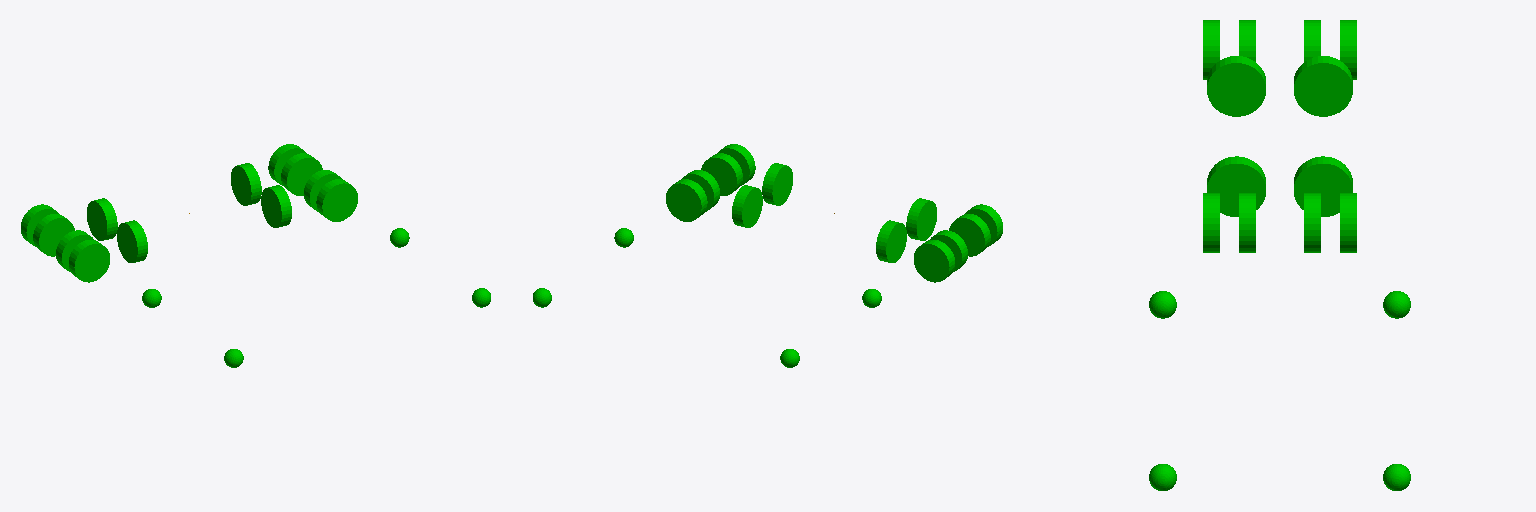
--- Render facts (derived) ---
Views: 3 orthographic renders of the robot side by side, from view 1: azimuth 30°, elevation 25°; view 2: azimuth 150°, elevation 25°; view 3: azimuth 270°, elevation 25°.
Model aliengo with 31 links and 30 joints (12 revolute, 18 fixed), rooted at base, posed joints at zero except 4 at the middle of their limits (FR_calf_joint = -1.71, FL_calf_joint = -1.71, RR_calf_joint = -1.71, RL_calf_joint = -1.71).
Visible links, largest first — view 1: FR_thigh_rotor, RR_thigh_rotor, FL_calf_rotor, RL_calf_rotor, FR_hip_rotor, RR_hip_rotor, FL_hip_rotor, RL_hip_rotor, RR_calf_rotor, FL_thigh_rotor, FR_calf_rotor, RL_thigh_rotor; view 2: FL_thigh_rotor, RL_thigh_rotor, FR_calf_rotor, RR_calf_rotor, FL_hip_rotor, RL_hip_rotor, FR_hip_rotor, RR_hip_rotor, RL_calf_rotor, FR_thigh_rotor, FL_calf_rotor, RR_thigh_rotor; view 3: RR_hip_rotor, RL_hip_rotor, FR_hip_rotor, FL_hip_rotor, FR_thigh_rotor, FR_calf_rotor, FL_thigh_rotor, FL_calf_rotor, RR_thigh_rotor, RL_thigh_rotor, RR_calf_rotor, RL_calf_rotor (+4 smaller).
Boxes of the visible links, box(x1,y1,x2,y2) form: FR_thigh_rotor: box(316, 179, 357, 221); RR_thigh_rotor: box(69, 240, 109, 282); FL_calf_rotor: box(281, 153, 322, 195); RL_calf_rotor: box(33, 214, 74, 256); FR_hip_rotor: box(261, 185, 291, 227); RR_hip_rotor: box(117, 220, 147, 262); FL_hip_rotor: box(231, 163, 261, 205); RL_hip_rotor: box(87, 198, 117, 240); RR_calf_rotor: box(56, 230, 93, 271); FL_thigh_rotor: box(268, 144, 306, 185); FR_calf_rotor: box(304, 170, 342, 211); RL_thigh_rotor: box(21, 204, 58, 246); FL_thigh_rotor: box(666, 179, 707, 221); RL_thigh_rotor: box(914, 240, 954, 282); FR_calf_rotor: box(701, 153, 742, 195); RR_calf_rotor: box(949, 214, 990, 256); FL_hip_rotor: box(732, 185, 762, 227); RL_hip_rotor: box(876, 220, 906, 262); FR_hip_rotor: box(762, 163, 792, 205); RR_hip_rotor: box(906, 198, 936, 240); RL_calf_rotor: box(930, 230, 967, 271); FR_thigh_rotor: box(717, 144, 755, 185); FL_calf_rotor: box(681, 170, 719, 211); RR_thigh_rotor: box(965, 204, 1002, 246); RR_hip_rotor: box(1207, 56, 1265, 116); RL_hip_rotor: box(1294, 56, 1352, 116); FR_hip_rotor: box(1207, 156, 1265, 216); FL_hip_rotor: box(1294, 156, 1352, 216); FR_thigh_rotor: box(1203, 193, 1219, 252); FR_calf_rotor: box(1239, 193, 1255, 252); FL_thigh_rotor: box(1340, 193, 1356, 252); FL_calf_rotor: box(1304, 193, 1320, 252); RR_thigh_rotor: box(1203, 20, 1219, 79); RL_thigh_rotor: box(1340, 20, 1356, 79); RR_calf_rotor: box(1239, 20, 1255, 61); RL_calf_rotor: box(1304, 20, 1320, 61).
Size in the robot's own frame: 0.7804 by 0.3086 by 0.2667 metres.
0 mesh visuals loaded from 5 distinct referenced files (none loaded); not drawn: 13 (reference not matched to a file when rendering).

The robot description file, URDF, robot "aliengo":
<?xml version="1.0" ?>
<!-- =================================================================================== -->
<!-- |    This document was autogenerated by xacro from robot.xacro                    | -->
<!-- |    EDITING THIS FILE BY HAND IS NOT RECOMMENDED                                 | -->
<!-- =================================================================================== -->
<robot name="aliengo">
  <material name="black">
    <color rgba="0.0 0.0 0.0 1.0"/>
  </material>
  <material name="blue">
    <color rgba="0.0 0.0 0.8 1.0"/>
  </material>
  <material name="green">
    <color rgba="0.0 0.8 0.0 1.0"/>
  </material>
  <material name="grey">
    <color rgba="0.2 0.2 0.2 1.0"/>
  </material>
  <material name="silver">
    <color rgba="0.9137254901960784 0.9137254901960784 0.8470588235294118 1.0"/>
  </material>
  <material name="orange">
    <color rgba="1.0 0.4235294117647059 0.0392156862745098 1.0"/>
  </material>
  <material name="brown">
    <color rgba="0.8705882352941177 0.8117647058823529 0.7647058823529411 1.0"/>
  </material>
  <material name="red">
    <color rgba="0.8 0.0 0.0 1.0"/>
  </material>
  <material name="white">
    <color rgba="1.0 1.0 1.0 1.0"/>
  </material>
  <!-- ros_control plugin -->
  <gazebo>
    <plugin filename="libgazebo_ros_control.so" name="gazebo_ros_control">
      <robotNamespace>/aliengo_gazebo</robotNamespace>
      <robotSimType>gazebo_ros_control/DefaultRobotHWSim</robotSimType>
    </plugin>
  </gazebo>
  <!-- Show the trajectory of trunk center. -->
  <gazebo>
    <plugin filename="libLinkPlot3DPlugin.so" name="3dplot">
      <frequency>10</frequency>
      <plot>
        <link>base</link>
        <pose>0 0 0 0 0 0</pose>
        <material>Gazebo/Yellow</material>
      </plot>
    </plugin>
  </gazebo>
  <!-- Show the trajectory of foot. You can add another trajectory about another foot. -->
  <!-- <gazebo>
        <plugin name="3dplot" filename="libLinkPlot3DPlugin.so">
            <frequency>100</frequency>
            <plot>
                <link>FL_foot</link>
                <pose>0 0 0 0 0 0</pose>
                <material>Gazebo/Green</material>
            </plot>
        </plugin>
    </gazebo> -->
  <gazebo>
    <plugin filename="libgazebo_ros_force.so" name="gazebo_ros_force">
      <bodyName>trunk</bodyName>
      <topicName>/apply_force/trunk</topicName>
    </plugin>
  </gazebo>
  <gazebo reference="imu_link">
    <gravity>true</gravity>
    <sensor name="imu_sensor" type="imu">
      <always_on>true</always_on>
      <update_rate>1000</update_rate>
      <visualize>true</visualize>
      <topic>__default_topic__</topic>
      <plugin filename="libgazebo_ros_imu_sensor.so" name="imu_plugin">
        <topicName>trunk_imu</topicName>
        <bodyName>imu_link</bodyName>
        <updateRateHZ>1000.0</updateRateHZ>
        <gaussianNoise>0.0</gaussianNoise>
        <xyzOffset>0 0 0</xyzOffset>
        <rpyOffset>0 0 0</rpyOffset>
        <frameName>imu_link</frameName>
      </plugin>
      <pose>0 0 0 0 0 0</pose>
    </sensor>
  </gazebo>
  <!-- Foot contacts. -->
  <gazebo reference="FR_calf">
    <sensor name="FR_foot_contact" type="contact">
      <update_rate>100</update_rate>
      <plugin filename="libunitreeFootContactPlugin.so" name="contactPlugin"/>
      <contact>
        <collision>FR_calf_fixed_joint_lump__FR_foot_collision_1</collision>
      </contact>
    </sensor>
  </gazebo>
  <gazebo reference="FL_calf">
    <sensor name="FL_foot_contact" type="contact">
      <update_rate>100</update_rate>
      <plugin filename="libunitreeFootContactPlugin.so" name="contactPlugin"/>
      <contact>
        <collision>FL_calf_fixed_joint_lump__FL_foot_collision_1</collision>
      </contact>
    </sensor>
  </gazebo>
  <gazebo reference="RR_calf">
    <sensor name="RR_foot_contact" type="contact">
      <update_rate>100</update_rate>
      <plugin filename="libunitreeFootContactPlugin.so" name="contactPlugin"/>
      <contact>
        <collision>RR_calf_fixed_joint_lump__RR_foot_collision_1</collision>
      </contact>
    </sensor>
  </gazebo>
  <gazebo reference="RL_calf">
    <sensor name="RL_foot_contact" type="contact">
      <update_rate>100</update_rate>
      <plugin filename="libunitreeFootContactPlugin.so" name="contactPlugin"/>
      <contact>
        <collision>RL_calf_fixed_joint_lump__RL_foot_collision_1</collision>
      </contact>
    </sensor>
  </gazebo>
  <!-- Visualization of Foot contacts. -->
  <gazebo reference="FR_foot">
    <visual>
      <plugin filename="libunitreeDrawForcePlugin.so" name="drawForcePlugin">
        <topicName>FR_foot_contact</topicName>
      </plugin>
    </visual>
  </gazebo>
  <gazebo reference="FL_foot">
    <visual>
      <plugin filename="libunitreeDrawForcePlugin.so" name="drawForcePlugin">
        <topicName>FL_foot_contact</topicName>
      </plugin>
    </visual>
  </gazebo>
  <gazebo reference="RR_foot">
    <visual>
      <plugin filename="libunitreeDrawForcePlugin.so" name="drawForcePlugin">
        <topicName>RR_foot_contact</topicName>
      </plugin>
    </visual>
  </gazebo>
  <gazebo reference="RL_foot">
    <visual>
      <plugin filename="libunitreeDrawForcePlugin.so" name="drawForcePlugin">
        <topicName>RL_foot_contact</topicName>
      </plugin>
    </visual>
  </gazebo>
  <gazebo reference="base">
    <material>Gazebo/Green</material>
    <turnGravityOff>false</turnGravityOff>
  </gazebo>
  <gazebo reference="trunk">
    <mu1>0.2</mu1>
    <mu2>0.2</mu2>
    <kp value="1000000.0"/>
    <kd value="1.0"/>
  </gazebo>
  <gazebo reference="stick_link">
    <mu1>0.2</mu1>
    <mu2>0.2</mu2>
    <material>Gazebo/White</material>
  </gazebo>
  <gazebo reference="imu_link">
    <mu1>0.2</mu1>
    <mu2>0.2</mu2>
    <material>Gazebo/Red</material>
  </gazebo>
  <!-- FL leg -->
  <gazebo reference="FL_hip">
    <mu1>0.2</mu1>
    <mu2>0.2</mu2>
    <material>Gazebo/DarkGrey</material>
  </gazebo>
  <gazebo reference="FL_thigh">
    <mu1>0.2</mu1>
    <mu2>0.2</mu2>
    <self_collide>1</self_collide>
    <material>Gazebo/DarkGrey</material>
    <kp value="1000000.0"/>
    <kd value="1.0"/>
  </gazebo>
  <gazebo reference="FL_calf">
    <mu1>0.2</mu1>
    <mu2>0.2</mu2>
    <self_collide>1</self_collide>
  </gazebo>
  <gazebo reference="FL_foot">
    <mu1>0.6</mu1>
    <mu2>0.6</mu2>
    <self_collide>1</self_collide>
    <material>Gazebo/DarkGrey</material>
    <kp value="1000000.0"/>
    <kd value="1.0"/>
  </gazebo>
  <!-- FR leg -->
  <gazebo reference="FR_hip">
    <mu1>0.2</mu1>
    <mu2>0.2</mu2>
    <material>Gazebo/DarkGrey</material>
  </gazebo>
  <gazebo reference="FR_thigh">
    <mu1>0.2</mu1>
    <mu2>0.2</mu2>
    <self_collide>1</self_collide>
    <material>Gazebo/DarkGrey</material>
    <kp value="1000000.0"/>
    <kd value="1.0"/>
  </gazebo>
  <gazebo reference="FR_calf">
    <mu1>0.2</mu1>
    <mu2>0.2</mu2>
    <self_collide>1</self_collide>
  </gazebo>
  <gazebo reference="FR_foot">
    <mu1>0.6</mu1>
    <mu2>0.6</mu2>
    <self_collide>1</self_collide>
    <material>Gazebo/DarkGrey</material>
    <kp value="1000000.0"/>
    <kd value="1.0"/>
  </gazebo>
  <!-- RL leg -->
  <gazebo reference="RL_hip">
    <mu1>0.2</mu1>
    <mu2>0.2</mu2>
    <material>Gazebo/DarkGrey</material>
  </gazebo>
  <gazebo reference="RL_thigh">
    <mu1>0.2</mu1>
    <mu2>0.2</mu2>
    <self_collide>1</self_collide>
    <material>Gazebo/DarkGrey</material>
    <kp value="1000000.0"/>
    <kd value="1.0"/>
  </gazebo>
  <gazebo reference="RL_calf">
    <mu1>0.2</mu1>
    <mu2>0.2</mu2>
    <self_collide>1</self_collide>
  </gazebo>
  <gazebo reference="RL_foot">
    <mu1>0.6</mu1>
    <mu2>0.6</mu2>
    <self_collide>1</self_collide>
    <material>Gazebo/DarkGrey</material>
    <kp value="1000000.0"/>
    <kd value="1.0"/>
  </gazebo>
  <!-- RR leg -->
  <gazebo reference="RR_hip">
    <mu1>0.2</mu1>
    <mu2>0.2</mu2>
    <material>Gazebo/DarkGrey</material>
  </gazebo>
  <gazebo reference="RR_thigh">
    <mu1>0.2</mu1>
    <mu2>0.2</mu2>
    <self_collide>1</self_collide>
    <material>Gazebo/DarkGrey</material>
    <kp value="1000000.0"/>
    <kd value="1.0"/>
  </gazebo>
  <gazebo reference="RR_calf">
    <mu1>0.2</mu1>
    <mu2>0.2</mu2>
    <self_collide>1</self_collide>
  </gazebo>
  <gazebo reference="RR_foot">
    <mu1>0.6</mu1>
    <mu2>0.6</mu2>
    <self_collide>1</self_collide>
    <material>Gazebo/DarkGrey</material>
    <kp value="1000000.0"/>
    <kd value="1.0"/>
  </gazebo>
  <!-- Rotor related joint and link is only for demonstrate location. -->
  <!-- Actually, the rotor will rotate and the joint is not fixed. Reduction ratio should be considered. -->
  <!-- Debug mode will hung up the robot, use "true" or "false" to switch it. -->
  <!-- <xacro:if value="$(arg DEBUG)">
        <link name="world"/>
        <joint name="base_static_joint" type="fixed">
            <origin rpy="0 0 0" xyz="0 0 0"/>
            <parent link="world"/>
            <child link="base"/>
        </joint>
    </xacro:if>  -->
  <link name="base">
    <visual>
      <origin rpy="0 0 0" xyz="0 0 0"/>
      <geometry>
        <box size="0.001 0.001 0.001"/>
      </geometry>
    </visual>
  </link>
  <joint name="floating_base" type="fixed">
    <origin rpy="0 0 0" xyz="0 0 0"/>
    <parent link="base"/>
    <child link="trunk"/>
  </joint>
  <link name="trunk">
    <visual>
      <origin rpy="0 0 0" xyz="0 0 0"/>
      <geometry>
        <mesh filename="package://meshes/trunk.dae" scale="1 1 1"/>
      </geometry>
      <material name="orange"/>
    </visual>
    <collision>
      <origin rpy="0 0 0" xyz="0 0 0"/>
      <geometry>
        <box size="0.647 0.15 0.112"/>
      </geometry>
    </collision>
    <!-- <collision>
            <origin rpy="0 0 0" xyz="0 0 0"/>
            <geometry>
                <mesh filename="package://meshes/trunk.dae" scale="1 1 1"/>
            </geometry>
        </collision> -->
    <inertial>
      <origin rpy="0 0 0" xyz="0.008811 0.003839 0.000273"/>
      <mass value="11.644"/>
      <inertia ixx="0.051944892" ixy="0.001703617" ixz="0.000235941" iyy="0.24693924" iyz="0.000119783" izz="0.270948307"/>
    </inertial>
  </link>
  <joint name="imu_joint" type="fixed">
    <parent link="trunk"/>
    <child link="imu_link"/>
    <origin rpy="0 0 0" xyz="0 0 0"/>
  </joint>
  <link name="imu_link">
    <inertial>
      <mass value="0.001"/>
      <origin rpy="0 0 0" xyz="0 0 0"/>
      <inertia ixx="0.0001" ixy="0" ixz="0" iyy="0.000001" iyz="0" izz="0.0001"/>
    </inertial>
    <visual>
      <origin rpy="0 0 0" xyz="0 0 0"/>
      <geometry>
        <box size="0.001 0.001 0.001"/>
      </geometry>
      <material name="red"/>
    </visual>
    <collision>
      <origin rpy="0 0 0" xyz="0 0 0"/>
      <geometry>
        <box size=".001 .001 .001"/>
      </geometry>
    </collision>
  </link>
  <joint name="FR_hip_joint" type="revolute">
    <origin rpy="0 0 0" xyz="0.2407 -0.051 0"/>
    <parent link="trunk"/>
    <child link="FR_hip"/>
    <axis xyz="1 0 0"/>
    <dynamics damping="0" friction="0"/>
    <limit effort="35.278" lower="-1.2217304763960306" upper="1.2217304763960306" velocity="20"/>
  </joint>
  <joint name="FR_hip_rotor_joint" type="fixed">
    <origin rpy="0 0 0" xyz="0.139985 -0.051 0"/>
    <parent link="trunk"/>
    <child link="FR_hip_rotor"/>
  </joint>
  <link name="FR_hip">
    <visual>
      <origin rpy="3.141592653589793 0 0" xyz="0 0 0"/>
      <geometry>
        <mesh filename="package://meshes/hip.dae" scale="1 1 1"/>
      </geometry>
      <material name="orange"/>
    </visual>
    <collision>
      <origin rpy="1.5707963267948966 0 0" xyz="0 -0.083 0"/>
      <geometry>
        <cylinder length="0.0418" radius="0.046"/>
      </geometry>
    </collision>
    <inertial>
      <origin rpy="0 0 0" xyz="-0.022191 -0.015144 -1.5e-05"/>
      <mass value="1.993"/>
      <inertia ixx="0.002446735" ixy="0.00059805" ixz="1.945e-06" iyy="0.003925876" iyz="-1.284e-06" izz="0.004148145"/>
    </inertial>
  </link>
  <link name="FR_hip_rotor">
    <visual>
      <origin rpy="0 1.5707963267948966 0" xyz="0 0 0"/>
      <geometry>
        <cylinder length="0.02" radius="0.035"/>
      </geometry>
      <material name="green"/>
    </visual>
    <collision>
      <origin rpy="0 1.5707963267948966 0" xyz="0 0 0"/>
      <geometry>
        <cylinder length="0.02" radius="0.035"/>
      </geometry>
    </collision>
    <inertial>
      <origin rpy="0 0 0" xyz="0.0 0.0 0.0"/>
      <mass value="0.146"/>
      <inertia ixx="0.000138702" ixy="0.0" ixz="0.0" iyy="8.3352e-05" iyz="0.0" izz="8.3352e-05"/>
    </inertial>
  </link>
  <joint name="FR_thigh_joint" type="revolute">
    <origin rpy="0 0 0" xyz="0 -0.0868 0"/>
    <parent link="FR_hip"/>
    <child link="FR_thigh"/>
    <axis xyz="0 1 0"/>
    <dynamics damping="0" friction="0"/>
    <limit effort="35.278" velocity="20"/>
  </joint>
  <joint name="FR_thigh_rotor_joint" type="fixed">
    <origin rpy="0 0 0" xyz="0.0 -0.0298 0"/>
    <parent link="FR_hip"/>
    <child link="FR_thigh_rotor"/>
  </joint>
  <link name="FR_thigh">
    <visual>
      <origin rpy="0 0 0" xyz="0 0 0"/>
      <geometry>
        <mesh filename="package://meshes/thigh_mirror.dae" scale="1 1 1"/>
      </geometry>
      <material name="orange"/>
    </visual>
    <collision>
      <origin rpy="0 1.5707963267948966 0" xyz="0 0 -0.125"/>
      <geometry>
        <box size="0.25 0.0374 0.043"/>
      </geometry>
    </collision>
    <inertial>
      <origin rpy="0 0 0" xyz="-0.005607 0.003877 -0.048199"/>
      <mass value="0.639"/>
      <inertia ixx="0.004173855" ixy="-1.0284e-05" ixz="-0.000318874" iyy="0.004343802" iyz="-0.000109233" izz="0.000340136"/>
    </inertial>
  </link>
  <link name="FR_thigh_rotor">
    <visual>
      <origin rpy="1.5707963267948966 0 0" xyz="0 0 0"/>
      <geometry>
        <cylinder length="0.02" radius="0.035"/>
      </geometry>
      <material name="green"/>
    </visual>
    <collision>
      <origin rpy="1.5707963267948966 0 0" xyz="0 0 0"/>
      <geometry>
        <cylinder length="0.02" radius="0.035"/>
      </geometry>
    </collision>
    <inertial>
      <origin rpy="0 0 0" xyz="0.0 0.0 0.0"/>
      <mass value="0.146"/>
      <inertia ixx="8.3352e-05" ixy="0.0" ixz="0.0" iyy="0.000138702" iyz="0.0" izz="8.3352e-05"/>
    </inertial>
  </link>
  <joint name="FR_calf_joint" type="revolute">
    <origin rpy="0 0 0" xyz="0 0 -0.25"/>
    <parent link="FR_thigh"/>
    <child link="FR_calf"/>
    <axis xyz="0 1 0"/>
    <dynamics damping="0" friction="0"/>
    <limit effort="44.4" lower="-2.775073510670984" upper="-0.6457718232379019" velocity="15.89"/>
  </joint>
  <joint name="FR_calf_rotor_joint" type="fixed">
    <origin rpy="0 0 0" xyz="0.0 0.0997 0"/>
    <parent link="FR_thigh"/>
    <child link="FR_calf_rotor"/>
  </joint>
  <link name="FR_calf">
    <visual>
      <origin rpy="0 0 0" xyz="0 0 0"/>
      <geometry>
        <mesh filename="package://meshes/calf.dae" scale="1 1 1"/>
      </geometry>
      <material name="orange"/>
    </visual>
    <collision>
      <origin rpy="0 1.5707963267948966 0" xyz="0 0 -0.125"/>
      <geometry>
        <box size="0.25 0.0208 0.016"/>
      </geometry>
    </collision>
    <inertial>
      <origin rpy="0 0 0" xyz="0.002781 6.3e-05 -0.142518"/>
      <mass value="0.207"/>
      <inertia ixx="0.002129279" ixy="3.9e-08" ixz="5.757e-06" iyy="0.002141463" iyz="-5.16e-07" izz="3.7583e-05"/>
    </inertial>
  </link>
  <link name="FR_calf_rotor">
    <visual>
      <origin rpy="1.5707963267948966 0 0" xyz="0 0 0"/>
      <geometry>
        <cylinder length="0.02" radius="0.035"/>
      </geometry>
      <material name="green"/>
    </visual>
    <collision>
      <origin rpy="1.5707963267948966 0 0" xyz="0 0 0"/>
      <geometry>
        <cylinder length="0.02" radius="0.035"/>
      </geometry>
    </collision>
    <inertial>
      <origin rpy="0 0 0" xyz="0.0 0.0 0.0"/>
      <mass value="0.132"/>
      <inertia ixx="0.000145463" ixy="0.0" ixz="0.0" iyy="0.000133031" iyz="0.0" izz="0.000145463"/>
    </inertial>
  </link>
  <joint name="FR_foot_fixed" type="fixed">
    <origin rpy="0 0 0" xyz="0 0 -0.25"/>
    <parent link="FR_calf"/>
    <child link="FR_foot"/>
  </joint>
  <link name="FR_foot">
    <visual>
      <origin rpy="0 0 0" xyz="0 0 0"/>
      <geometry>
        <sphere radius="0.0165"/>
      </geometry>
      <material name="green"/>
    </visual>
    <collision>
      <origin rpy="0 0 0" xyz="0 0 0"/>
      <geometry>
        <sphere radius="0.0265"/>
      </geometry>
    </collision>
    <inertial>
      <mass value="0.06"/>
      <inertia ixx="1.6853999999999998e-05" ixy="0.0" ixz="0.0" iyy="1.6853999999999998e-05" iyz="0.0" izz="1.6853999999999998e-05"/>
    </inertial>
  </link>
  <transmission name="FR_hip_tran">
    <type>transmission_interface/SimpleTransmission</type>
    <joint name="FR_hip_joint">
      <hardwareInterface>hardware_interface/EffortJointInterface</hardwareInterface>
    </joint>
    <actuator name="FR_hip_motor">
      <hardwareInterface>hardware_interface/EffortJointInterface</hardwareInterface>
      <mechanicalReduction>1</mechanicalReduction>
    </actuator>
  </transmission>
  <transmission name="FR_thigh_tran">
    <type>transmission_interface/SimpleTransmission</type>
    <joint name="FR_thigh_joint">
      <hardwareInterface>hardware_interface/EffortJointInterface</hardwareInterface>
    </joint>
    <actuator name="FR_thigh_motor">
      <hardwareInterface>hardware_interface/EffortJointInterface</hardwareInterface>
      <mechanicalReduction>1</mechanicalReduction>
    </actuator>
  </transmission>
  <transmission name="FR_calf_tran">
    <type>transmission_interface/SimpleTransmission</type>
    <joint name="FR_calf_joint">
      <hardwareInterface>hardware_interface/EffortJointInterface</hardwareInterface>
    </joint>
    <actuator name="FR_calf_motor">
      <hardwareInterface>hardware_interface/EffortJointInterface</hardwareInterface>
      <mechanicalReduction>1</mechanicalReduction>
    </actuator>
  </transmission>
  <joint name="FL_hip_joint" type="revolute">
    <origin rpy="0 0 0" xyz="0.2407 0.051 0"/>
    <parent link="trunk"/>
    <child link="FL_hip"/>
    <axis xyz="1 0 0"/>
    <dynamics damping="0" friction="0"/>
    <limit effort="35.278" lower="-1.2217304763960306" upper="1.2217304763960306" velocity="20"/>
  </joint>
  <joint name="FL_hip_rotor_joint" type="fixed">
    <origin rpy="0 0 0" xyz="0.139985 0.051 0"/>
    <parent link="trunk"/>
    <child link="FL_hip_rotor"/>
  </joint>
  <link name="FL_hip">
    <visual>
      <origin rpy="0 0 0" xyz="0 0 0"/>
      <geometry>
        <mesh filename="package://meshes/hip.dae" scale="1 1 1"/>
      </geometry>
      <material name="orange"/>
    </visual>
    <collision>
      <origin rpy="1.5707963267948966 0 0" xyz="0 0.083 0"/>
      <geometry>
        <cylinder length="0.0418" radius="0.046"/>
      </geometry>
    </collision>
    <inertial>
      <origin rpy="0 0 0" xyz="-0.022191 0.015144 -1.5e-05"/>
      <mass value="1.993"/>
      <inertia ixx="0.002446735" ixy="-0.00059805" ixz="1.945e-06" iyy="0.003925876" iyz="1.284e-06" izz="0.004148145"/>
    </inertial>
  </link>
  <link name="FL_hip_rotor">
    <visual>
      <origin rpy="0 1.5707963267948966 0" xyz="0 0 0"/>
      <geometry>
        <cylinder length="0.02" radius="0.035"/>
      </geometry>
      <material name="green"/>
    </visual>
    <collision>
      <origin rpy="0 1.5707963267948966 0" xyz="0 0 0"/>
      <geometry>
        <cylinder length="0.02" radius="0.035"/>
      </geometry>
    </collision>
    <inertial>
      <origin rpy="0 0 0" xyz="0.0 0.0 0.0"/>
      <mass value="0.146"/>
      <inertia ixx="0.000138702" ixy="0.0" ixz="0.0" iyy="8.3352e-05" iyz="0.0" izz="8.3352e-05"/>
    </inertial>
  </link>
  <joint name="FL_thigh_joint" type="revolute">
    <origin rpy="0 0 0" xyz="0 0.0868 0"/>
    <parent link="FL_hip"/>
    <child link="FL_thigh"/>
    <axis xyz="0 1 0"/>
    <dynamics damping="0" friction="0"/>
    <limit effort="35.278" velocity="20"/>
  </joint>
  <joint name="FL_thigh_rotor_joint" type="fixed">
    <origin rpy="0 0 0" xyz="0.0 0.0298 0"/>
    <parent link="FL_hip"/>
    <child link="FL_thigh_rotor"/>
  </joint>
  <link name="FL_thigh">
    <visual>
      <origin rpy="0 0 0" xyz="0 0 0"/>
      <geometry>
        <mesh filename="package://meshes/thigh.dae" scale="1 1 1"/>
      </geometry>
      <material name="orange"/>
    </visual>
    <collision>
      <origin rpy="0 1.5707963267948966 0" xyz="0 0 -0.125"/>
      <geometry>
        <box size="0.25 0.0374 0.043"/>
      </geometry>
    </collision>
    <inertial>
      <origin rpy="0 0 0" xyz="-0.005607 -0.003877 -0.048199"/>
      <mass value="0.639"/>
      <inertia ixx="0.004173855" ixy="1.0284e-05" ixz="-0.000318874" iyy="0.004343802" iyz="0.000109233" izz="0.000340136"/>
    </inertial>
  </link>
  <link name="FL_thigh_rotor">
    <visual>
      <origin rpy="1.5707963267948966 0 0" xyz="0 0 0"/>
      <geometry>
        <cylinder length="0.02" radius="0.035"/>
      </geometry>
      <material name="green"/>
    </visual>
    <collision>
      <origin rpy="1.5707963267948966 0 0" xyz="0 0 0"/>
      <geometry>
        <cylinder length="0.02" radius="0.035"/>
      </geometry>
    </collision>
    <inertial>
      <origin rpy="0 0 0" xyz="0.0 0.0 0.0"/>
      <mass value="0.146"/>
      <inertia ixx="8.3352e-05" ixy="0.0" ixz="0.0" iyy="0.000138702" iyz="0.0" izz="8.3352e-05"/>
    </inertial>
  </link>
  <joint name="FL_calf_joint" type="revolute">
    <origin rpy="0 0 0" xyz="0 0 -0.25"/>
    <parent link="FL_thigh"/>
    <child link="FL_calf"/>
    <axis xyz="0 1 0"/>
    <dynamics damping="0" friction="0"/>
    <limit effort="44.4" lower="-2.775073510670984" upper="-0.6457718232379019" velocity="15.89"/>
  </joint>
  <joint name="FL_calf_rotor_joint" type="fixed">
    <origin rpy="0 0 0" xyz="0.0 -0.0997 0"/>
    <parent link="FL_thigh"/>
    <child link="FL_calf_rotor"/>
  </joint>
  <link name="FL_calf">
    <visual>
      <origin rpy="0 0 0" xyz="0 0 0"/>
      <geometry>
        <mesh filename="package://meshes/calf.dae" scale="1 1 1"/>
      </geometry>
      <material name="orange"/>
    </visual>
    <collision>
      <origin rpy="0 1.5707963267948966 0" xyz="0 0 -0.125"/>
      <geometry>
        <box size="0.25 0.0208 0.016"/>
      </geometry>
    </collision>
    <inertial>
      <origin rpy="0 0 0" xyz="0.002781 6.3e-05 -0.142518"/>
      <mass value="0.207"/>
      <inertia ixx="0.002129279" ixy="3.9e-08" ixz="5.757e-06" iyy="0.002141463" iyz="-5.16e-07" izz="3.7583e-05"/>
    </inertial>
  </link>
  <link name="FL_calf_rotor">
    <visual>
      <origin rpy="1.5707963267948966 0 0" xyz="0 0 0"/>
      <geometry>
        <cylinder length="0.02" radius="0.035"/>
      </geometry>
      <material name="green"/>
    </visual>
    <collision>
      <origin rpy="1.5707963267948966 0 0" xyz="0 0 0"/>
      <geometry>
        <cylinder length="0.02" radius="0.035"/>
      </geometry>
    </collision>
    <inertial>
      <origin rpy="0 0 0" xyz="0.0 0.0 0.0"/>
      <mass value="0.132"/>
      <inertia ixx="0.000145463" ixy="0.0" ixz="0.0" iyy="0.000133031" iyz="0.0" izz="0.000145463"/>
    </inertial>
  </link>
  <joint name="FL_foot_fixed" type="fixed">
    <origin rpy="0 0 0" xyz="0 0 -0.25"/>
    <parent link="FL_calf"/>
    <child link="FL_foot"/>
  </joint>
  <link name="FL_foot">
    <visual>
      <origin rpy="0 0 0" xyz="0 0 0"/>
      <geometry>
        <sphere radius="0.0165"/>
      </geometry>
      <material name="green"/>
    </visual>
    <collision>
      <origin rpy="0 0 0" xyz="0 0 0"/>
      <geometry>
        <sphere radius="0.0265"/>
      </geometry>
    </collision>
    <inertial>
      <mass value="0.06"/>
      <inertia ixx="1.6853999999999998e-05" ixy="0.0" ixz="0.0" iyy="1.6853999999999998e-05" iyz="0.0" izz="1.6853999999999998e-05"/>
    </inertial>
  </link>
  <transmission name="FL_hip_tran">
    <type>transmission_interface/SimpleTransmission</type>
    <joint name="FL_hip_joint">
      <hardwareInterface>hardware_interface/EffortJointInterface</hardwareInterface>
    </joint>
    <actuator name="FL_hip_motor">
      <hardwareInterface>hardware_interface/EffortJointInterface</hardwareInterface>
      <mechanicalReduction>1</mechanicalReduction>
    </actuator>
  </transmission>
  <transmission name="FL_thigh_tran">
    <type>transmission_interface/SimpleTransmission</type>
    <joint name="FL_thigh_joint">
      <hardwareInterface>hardware_interface/EffortJointInterface</hardwareInterface>
    </joint>
    <actuator name="FL_thigh_motor">
      <hardwareInterface>hardware_interface/EffortJointInterface</hardwareInterface>
      <mechanicalReduction>1</mechanicalReduction>
    </actuator>
  </transmission>
  <transmission name="FL_calf_tran">
    <type>transmission_interface/SimpleTransmission</type>
    <joint name="FL_calf_joint">
      <hardwareInterface>hardware_interface/EffortJointInterface</hardwareInterface>
    </joint>
    <actuator name="FL_calf_motor">
      <hardwareInterface>hardware_interface/EffortJointInterface</hardwareInterface>
      <mechanicalReduction>1</mechanicalReduction>
    </actuator>
  </transmission>
  <joint name="RR_hip_joint" type="revolute">
    <origin rpy="0 0 0" xyz="-0.2407 -0.051 0"/>
    <parent link="trunk"/>
    <child link="RR_hip"/>
    <axis xyz="1 0 0"/>
    <dynamics damping="0" friction="0"/>
    <limit effort="35.278" lower="-1.2217304763960306" upper="1.2217304763960306" velocity="20"/>
  </joint>
  <joint name="RR_hip_rotor_joint" type="fixed">
    <origin rpy="0 0 0" xyz="-0.139985 -0.051 0"/>
    <parent link="trunk"/>
    <child link="RR_hip_rotor"/>
  </joint>
  <link name="RR_hip">
    <visual>
      <origin rpy="3.141592653589793 3.141592653589793 0" xyz="0 0 0"/>
      <geometry>
        <mesh filename="package://meshes/hip.dae" scale="1 1 1"/>
      </geometry>
      <material name="orange"/>
    </visual>
    <collision>
      <origin rpy="1.5707963267948966 0 0" xyz="0 -0.083 0"/>
      <geometry>
        <cylinder length="0.0418" radius="0.046"/>
      </geometry>
    </collision>
    <inertial>
      <origin rpy="0 0 0" xyz="0.022191 -0.015144 -1.5e-05"/>
      <mass value="1.993"/>
      <inertia ixx="0.002446735" ixy="-0.00059805" ixz="-1.945e-06" iyy="0.003925876" iyz="-1.284e-06" izz="0.004148145"/>
    </inertial>
  </link>
  <link name="RR_hip_rotor">
    <visual>
      <origin rpy="0 1.5707963267948966 0" xyz="0 0 0"/>
      <geometry>
        <cylinder length="0.02" radius="0.035"/>
      </geometry>
      <material name="green"/>
    </visual>
    <collision>
      <origin rpy="0 1.5707963267948966 0" xyz="0 0 0"/>
      <geometry>
        <cylinder length="0.02" radius="0.035"/>
      </geometry>
    </collision>
    <inertial>
      <origin rpy="0 0 0" xyz="0.0 0.0 0.0"/>
      <mass value="0.146"/>
      <inertia ixx="0.000138702" ixy="0.0" ixz="0.0" iyy="8.3352e-05" iyz="0.0" izz="8.3352e-05"/>
    </inertial>
  </link>
  <joint name="RR_thigh_joint" type="revolute">
    <origin rpy="0 0 0" xyz="0 -0.0868 0"/>
    <parent link="RR_hip"/>
    <child link="RR_thigh"/>
    <axis xyz="0 1 0"/>
    <dynamics damping="0" friction="0"/>
    <limit effort="35.278" velocity="20"/>
  </joint>
  <joint name="RR_thigh_rotor_joint" type="fixed">
    <origin rpy="0 0 0" xyz="0.0 -0.0298 0"/>
    <parent link="RR_hip"/>
    <child link="RR_thigh_rotor"/>
  </joint>
  <link name="RR_thigh">
    <visual>
      <origin rpy="0 0 0" xyz="0 0 0"/>
      <geometry>
        <mesh filename="package://meshes/thigh_mirror.dae" scale="1 1 1"/>
      </geometry>
      <material name="orange"/>
    </visual>
    <collision>
      <origin rpy="0 1.5707963267948966 0" xyz="0 0 -0.125"/>
      <geometry>
        <box size="0.25 0.0374 0.043"/>
      </geometry>
    </collision>
    <inertial>
      <origin rpy="0 0 0" xyz="-0.005607 0.003877 -0.048199"/>
      <mass value="0.639"/>
      <inertia ixx="0.004173855" ixy="-1.0284e-05" ixz="-0.000318874" iyy="0.004343802" iyz="-0.000109233" izz="0.000340136"/>
    </inertial>
  </link>
  <link name="RR_thigh_rotor">
    <visual>
      <origin rpy="1.5707963267948966 0 0" xyz="0 0 0"/>
      <geometry>
        <cylinder length="0.02" radius="0.035"/>
      </geometry>
      <material name="green"/>
    </visual>
    <collision>
      <origin rpy="1.5707963267948966 0 0" xyz="0 0 0"/>
      <geometry>
        <cylinder length="0.02" radius="0.035"/>
      </geometry>
    </collision>
    <inertial>
      <origin rpy="0 0 0" xyz="0.0 0.0 0.0"/>
      <mass value="0.146"/>
      <inertia ixx="8.3352e-05" ixy="0.0" ixz="0.0" iyy="0.000138702" iyz="0.0" izz="8.3352e-05"/>
    </inertial>
  </link>
  <joint name="RR_calf_joint" type="revolute">
    <origin rpy="0 0 0" xyz="0 0 -0.25"/>
    <parent link="RR_thigh"/>
    <child link="RR_calf"/>
    <axis xyz="0 1 0"/>
    <dynamics damping="0" friction="0"/>
    <limit effort="44.4" lower="-2.775073510670984" upper="-0.6457718232379019" velocity="15.89"/>
  </joint>
  <joint name="RR_calf_rotor_joint" type="fixed">
    <origin rpy="0 0 0" xyz="0.0 0.0997 0"/>
    <parent link="RR_thigh"/>
    <child link="RR_calf_rotor"/>
  </joint>
  <link name="RR_calf">
    <visual>
      <origin rpy="0 0 0" xyz="0 0 0"/>
      <geometry>
        <mesh filename="package://meshes/calf.dae" scale="1 1 1"/>
      </geometry>
      <material name="orange"/>
    </visual>
    <collision>
      <origin rpy="0 1.5707963267948966 0" xyz="0 0 -0.125"/>
      <geometry>
        <box size="0.25 0.0208 0.016"/>
      </geometry>
    </collision>
    <inertial>
      <origin rpy="0 0 0" xyz="0.002781 6.3e-05 -0.142518"/>
      <mass value="0.207"/>
      <inertia ixx="0.002129279" ixy="3.9e-08" ixz="5.757e-06" iyy="0.002141463" iyz="-5.16e-07" izz="3.7583e-05"/>
    </inertial>
  </link>
  <link name="RR_calf_rotor">
    <visual>
      <origin rpy="1.5707963267948966 0 0" xyz="0 0 0"/>
      <geometry>
        <cylinder length="0.02" radius="0.035"/>
      </geometry>
      <material name="green"/>
    </visual>
    <collision>
      <origin rpy="1.5707963267948966 0 0" xyz="0 0 0"/>
      <geometry>
        <cylinder length="0.02" radius="0.035"/>
      </geometry>
    </collision>
    <inertial>
      <origin rpy="0 0 0" xyz="0.0 0.0 0.0"/>
      <mass value="0.132"/>
      <inertia ixx="0.000145463" ixy="0.0" ixz="0.0" iyy="0.000133031" iyz="0.0" izz="0.000145463"/>
    </inertial>
  </link>
  <joint name="RR_foot_fixed" type="fixed">
    <origin rpy="0 0 0" xyz="0 0 -0.25"/>
    <parent link="RR_calf"/>
    <child link="RR_foot"/>
  </joint>
  <link name="RR_foot">
    <visual>
      <origin rpy="0 0 0" xyz="0 0 0"/>
      <geometry>
        <sphere radius="0.0165"/>
      </geometry>
      <material name="green"/>
    </visual>
    <collision>
      <origin rpy="0 0 0" xyz="0 0 0"/>
      <geometry>
        <sphere radius="0.0265"/>
      </geometry>
    </collision>
    <inertial>
      <mass value="0.06"/>
      <inertia ixx="1.6853999999999998e-05" ixy="0.0" ixz="0.0" iyy="1.6853999999999998e-05" iyz="0.0" izz="1.6853999999999998e-05"/>
    </inertial>
  </link>
  <transmission name="RR_hip_tran">
    <type>transmission_interface/SimpleTransmission</type>
    <joint name="RR_hip_joint">
      <hardwareInterface>hardware_interface/EffortJointInterface</hardwareInterface>
    </joint>
    <actuator name="RR_hip_motor">
      <hardwareInterface>hardware_interface/EffortJointInterface</hardwareInterface>
      <mechanicalReduction>1</mechanicalReduction>
    </actuator>
  </transmission>
  <transmission name="RR_thigh_tran">
    <type>transmission_interface/SimpleTransmission</type>
    <joint name="RR_thigh_joint">
      <hardwareInterface>hardware_interface/EffortJointInterface</hardwareInterface>
    </joint>
    <actuator name="RR_thigh_motor">
      <hardwareInterface>hardware_interface/EffortJointInterface</hardwareInterface>
      <mechanicalReduction>1</mechanicalReduction>
    </actuator>
  </transmission>
  <transmission name="RR_calf_tran">
    <type>transmission_interface/SimpleTransmission</type>
    <joint name="RR_calf_joint">
      <hardwareInterface>hardware_interface/EffortJointInterface</hardwareInterface>
    </joint>
    <actuator name="RR_calf_motor">
      <hardwareInterface>hardware_interface/EffortJointInterface</hardwareInterface>
      <mechanicalReduction>1</mechanicalReduction>
    </actuator>
  </transmission>
  <joint name="RL_hip_joint" type="revolute">
    <origin rpy="0 0 0" xyz="-0.2407 0.051 0"/>
    <parent link="trunk"/>
    <child link="RL_hip"/>
    <axis xyz="1 0 0"/>
    <dynamics damping="0" friction="0"/>
    <limit effort="35.278" lower="-1.2217304763960306" upper="1.2217304763960306" velocity="20"/>
  </joint>
  <joint name="RL_hip_rotor_joint" type="fixed">
    <origin rpy="0 0 0" xyz="-0.139985 0.051 0"/>
    <parent link="trunk"/>
    <child link="RL_hip_rotor"/>
  </joint>
  <link name="RL_hip">
    <visual>
      <origin rpy="0 3.141592653589793 0" xyz="0 0 0"/>
      <geometry>
        <mesh filename="package://meshes/hip.dae" scale="1 1 1"/>
      </geometry>
      <material name="orange"/>
    </visual>
    <collision>
      <origin rpy="1.5707963267948966 0 0" xyz="0 0.083 0"/>
      <geometry>
        <cylinder length="0.0418" radius="0.046"/>
      </geometry>
    </collision>
    <inertial>
      <origin rpy="0 0 0" xyz="0.022191 0.015144 -1.5e-05"/>
      <mass value="1.993"/>
      <inertia ixx="0.002446735" ixy="0.00059805" ixz="-1.945e-06" iyy="0.003925876" iyz="1.284e-06" izz="0.004148145"/>
    </inertial>
  </link>
  <link name="RL_hip_rotor">
    <visual>
      <origin rpy="0 1.5707963267948966 0" xyz="0 0 0"/>
      <geometry>
        <cylinder length="0.02" radius="0.035"/>
      </geometry>
      <material name="green"/>
    </visual>
    <collision>
      <origin rpy="0 1.5707963267948966 0" xyz="0 0 0"/>
      <geometry>
        <cylinder length="0.02" radius="0.035"/>
      </geometry>
    </collision>
    <inertial>
      <origin rpy="0 0 0" xyz="0.0 0.0 0.0"/>
      <mass value="0.146"/>
      <inertia ixx="0.000138702" ixy="0.0" ixz="0.0" iyy="8.3352e-05" iyz="0.0" izz="8.3352e-05"/>
    </inertial>
  </link>
  <joint name="RL_thigh_joint" type="revolute">
    <origin rpy="0 0 0" xyz="0 0.0868 0"/>
    <parent link="RL_hip"/>
    <child link="RL_thigh"/>
    <axis xyz="0 1 0"/>
    <dynamics damping="0" friction="0"/>
    <limit effort="35.278" velocity="20"/>
  </joint>
  <joint name="RL_thigh_rotor_joint" type="fixed">
    <origin rpy="0 0 0" xyz="0.0 0.0298 0"/>
    <parent link="RL_hip"/>
    <child link="RL_thigh_rotor"/>
  </joint>
  <link name="RL_thigh">
    <visual>
      <origin rpy="0 0 0" xyz="0 0 0"/>
      <geometry>
        <mesh filename="package://meshes/thigh.dae" scale="1 1 1"/>
      </geometry>
      <material name="orange"/>
    </visual>
    <collision>
      <origin rpy="0 1.5707963267948966 0" xyz="0 0 -0.125"/>
      <geometry>
        <box size="0.25 0.0374 0.043"/>
      </geometry>
    </collision>
    <inertial>
      <origin rpy="0 0 0" xyz="-0.005607 -0.003877 -0.048199"/>
      <mass value="0.639"/>
      <inertia ixx="0.004173855" ixy="1.0284e-05" ixz="-0.000318874" iyy="0.004343802" iyz="0.000109233" izz="0.000340136"/>
    </inertial>
  </link>
  <link name="RL_thigh_rotor">
    <visual>
      <origin rpy="1.5707963267948966 0 0" xyz="0 0 0"/>
      <geometry>
        <cylinder length="0.02" radius="0.035"/>
      </geometry>
      <material name="green"/>
    </visual>
    <collision>
      <origin rpy="1.5707963267948966 0 0" xyz="0 0 0"/>
      <geometry>
        <cylinder length="0.02" radius="0.035"/>
      </geometry>
    </collision>
    <inertial>
      <origin rpy="0 0 0" xyz="0.0 0.0 0.0"/>
      <mass value="0.146"/>
      <inertia ixx="8.3352e-05" ixy="0.0" ixz="0.0" iyy="0.000138702" iyz="0.0" izz="8.3352e-05"/>
    </inertial>
  </link>
  <joint name="RL_calf_joint" type="revolute">
    <origin rpy="0 0 0" xyz="0 0 -0.25"/>
    <parent link="RL_thigh"/>
    <child link="RL_calf"/>
    <axis xyz="0 1 0"/>
    <dynamics damping="0" friction="0"/>
    <limit effort="44.4" lower="-2.775073510670984" upper="-0.6457718232379019" velocity="15.89"/>
  </joint>
  <joint name="RL_calf_rotor_joint" type="fixed">
    <origin rpy="0 0 0" xyz="0.0 -0.0997 0"/>
    <parent link="RL_thigh"/>
    <child link="RL_calf_rotor"/>
  </joint>
  <link name="RL_calf">
    <visual>
      <origin rpy="0 0 0" xyz="0 0 0"/>
      <geometry>
        <mesh filename="package://meshes/calf.dae" scale="1 1 1"/>
      </geometry>
      <material name="orange"/>
    </visual>
    <collision>
      <origin rpy="0 1.5707963267948966 0" xyz="0 0 -0.125"/>
      <geometry>
        <box size="0.25 0.0208 0.016"/>
      </geometry>
    </collision>
    <inertial>
      <origin rpy="0 0 0" xyz="0.002781 6.3e-05 -0.142518"/>
      <mass value="0.207"/>
      <inertia ixx="0.002129279" ixy="3.9e-08" ixz="5.757e-06" iyy="0.002141463" iyz="-5.16e-07" izz="3.7583e-05"/>
    </inertial>
  </link>
  <link name="RL_calf_rotor">
    <visual>
      <origin rpy="1.5707963267948966 0 0" xyz="0 0 0"/>
      <geometry>
        <cylinder length="0.02" radius="0.035"/>
      </geometry>
      <material name="green"/>
    </visual>
    <collision>
      <origin rpy="1.5707963267948966 0 0" xyz="0 0 0"/>
      <geometry>
        <cylinder length="0.02" radius="0.035"/>
      </geometry>
    </collision>
    <inertial>
      <origin rpy="0 0 0" xyz="0.0 0.0 0.0"/>
      <mass value="0.132"/>
      <inertia ixx="0.000145463" ixy="0.0" ixz="0.0" iyy="0.000133031" iyz="0.0" izz="0.000145463"/>
    </inertial>
  </link>
  <joint name="RL_foot_fixed" type="fixed">
    <origin rpy="0 0 0" xyz="0 0 -0.25"/>
    <parent link="RL_calf"/>
    <child link="RL_foot"/>
  </joint>
  <link name="RL_foot">
    <visual>
      <origin rpy="0 0 0" xyz="0 0 0"/>
      <geometry>
        <sphere radius="0.0165"/>
      </geometry>
      <material name="green"/>
    </visual>
    <collision>
      <origin rpy="0 0 0" xyz="0 0 0"/>
      <geometry>
        <sphere radius="0.0265"/>
      </geometry>
    </collision>
    <inertial>
      <mass value="0.06"/>
      <inertia ixx="1.6853999999999998e-05" ixy="0.0" ixz="0.0" iyy="1.6853999999999998e-05" iyz="0.0" izz="1.6853999999999998e-05"/>
    </inertial>
  </link>
  <transmission name="RL_hip_tran">
    <type>transmission_interface/SimpleTransmission</type>
    <joint name="RL_hip_joint">
      <hardwareInterface>hardware_interface/EffortJointInterface</hardwareInterface>
    </joint>
    <actuator name="RL_hip_motor">
      <hardwareInterface>hardware_interface/EffortJointInterface</hardwareInterface>
      <mechanicalReduction>1</mechanicalReduction>
    </actuator>
  </transmission>
  <transmission name="RL_thigh_tran">
    <type>transmission_interface/SimpleTransmission</type>
    <joint name="RL_thigh_joint">
      <hardwareInterface>hardware_interface/EffortJointInterface</hardwareInterface>
    </joint>
    <actuator name="RL_thigh_motor">
      <hardwareInterface>hardware_interface/EffortJointInterface</hardwareInterface>
      <mechanicalReduction>1</mechanicalReduction>
    </actuator>
  </transmission>
  <transmission name="RL_calf_tran">
    <type>transmission_interface/SimpleTransmission</type>
    <joint name="RL_calf_joint">
      <hardwareInterface>hardware_interface/EffortJointInterface</hardwareInterface>
    </joint>
    <actuator name="RL_calf_motor">
      <hardwareInterface>hardware_interface/EffortJointInterface</hardwareInterface>
      <mechanicalReduction>1</mechanicalReduction>
    </actuator>
  </transmission>
  <!-- <xacro:stairs stairs="15" xpos="0" ypos="2.0" zpos="0" /> -->
</robot>
